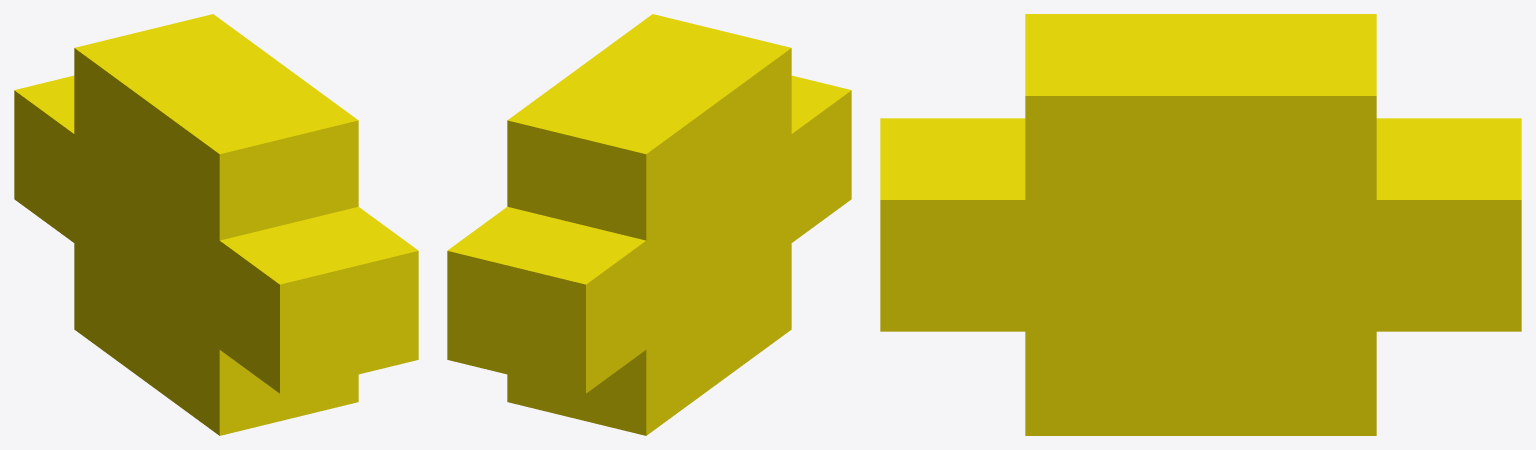
File: modelo_didático_6.glb
The picture shows the model from 3 angles, left to right: view 1: azimuth 30°, elevation 25°; view 2: azimuth 150°, elevation 25°; view 3: azimuth 270°, elevation 25°; orthographic projection. The views are drawn at different scales.
Visible parts, largest first — view 1: Modelo didatico 6.SLDPRT; view 2: Modelo didatico 6.SLDPRT; view 3: Modelo didatico 6.SLDPRT.
Boxes of the visible parts, x1=… form: Modelo didatico 6.SLDPRT: x1=14, y1=14, x2=418, y2=435; Modelo didatico 6.SLDPRT: x1=447, y1=14, x2=851, y2=435; Modelo didatico 6.SLDPRT: x1=880, y1=14, x2=1521, y2=435.
Bounding box in the file's own units: 0.016 × 0.031 × 0.053.
